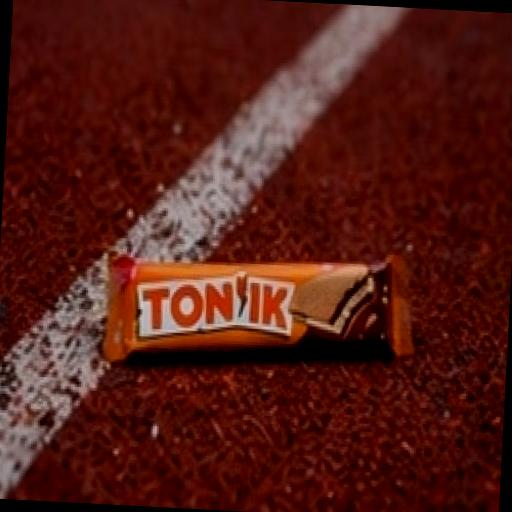tonik: (56, 135, 481, 474)
